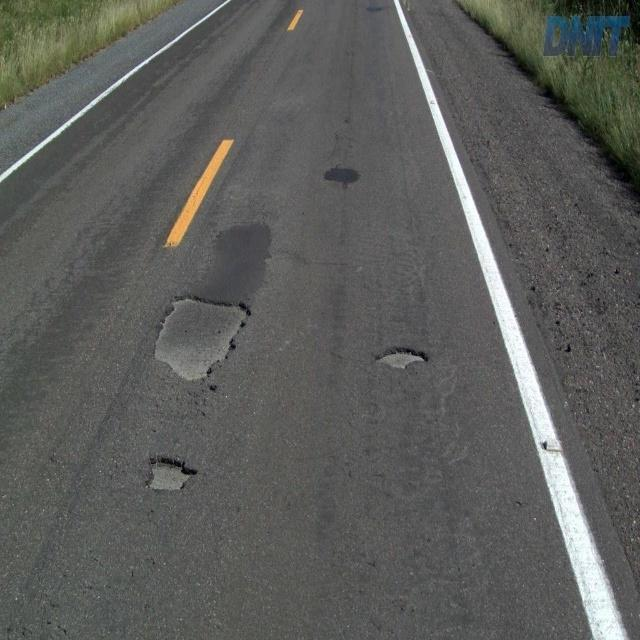pothole: (150, 290, 254, 386), (140, 449, 203, 494), (375, 342, 435, 376)
